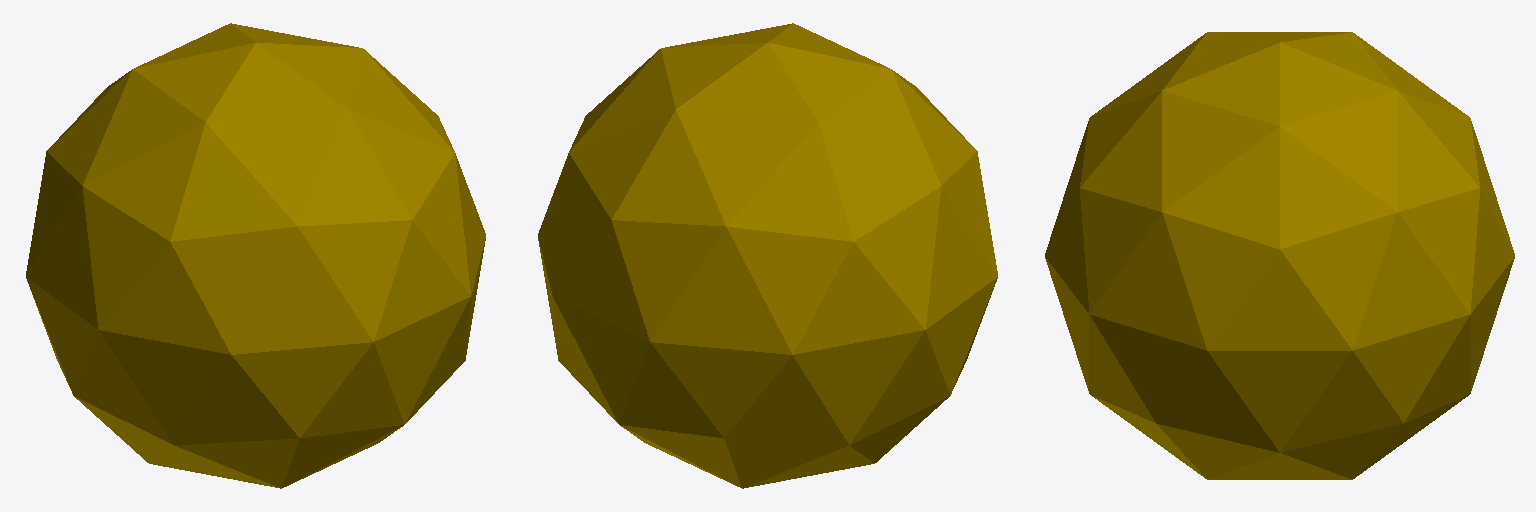
Rendered from icosphereYellow.obj.
3 renders of one model, left to right at view 1: azimuth 30°, elevation 25°; view 2: azimuth 150°, elevation 25°; view 3: azimuth 270°, elevation 25°, orthographic.
Parts seen in each view (by area): view 1: Icosphere; view 2: Icosphere; view 3: Icosphere.
Boxes of the visible parts, <box> form: Icosphere: <box>26,23,485,488</box>; Icosphere: <box>538,23,997,488</box>; Icosphere: <box>1045,32,1514,479</box>.
Size of the model in its own units: 4.61 by 4.85 by 4.85.